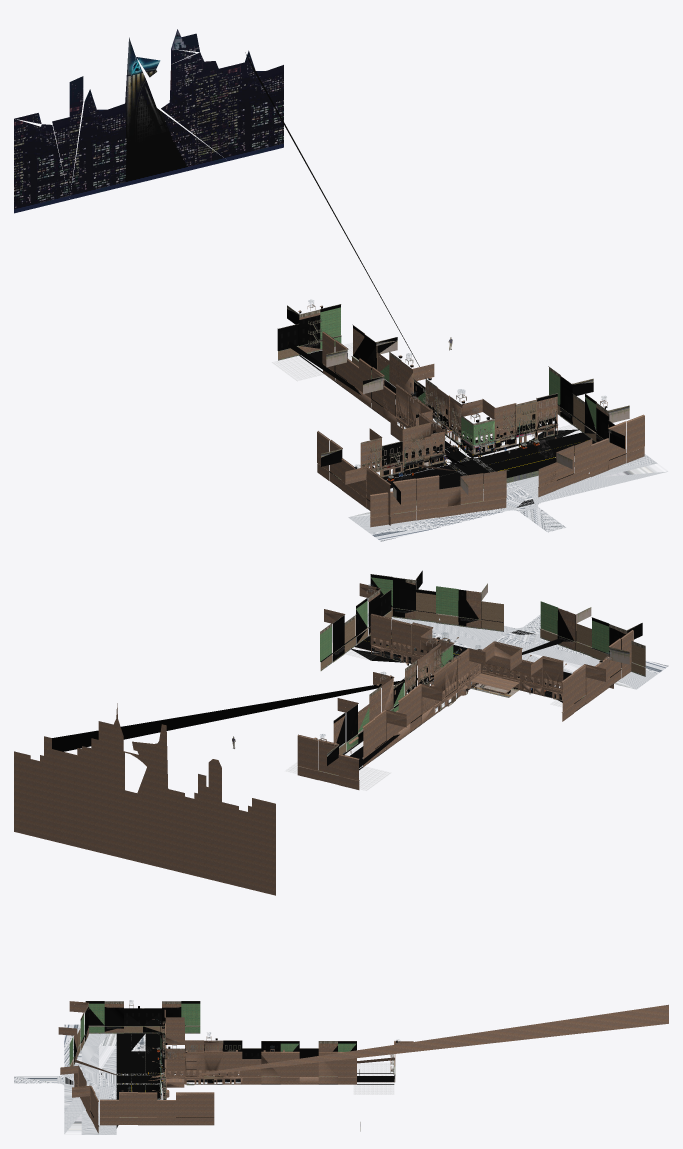
File: oldstreet.glb
3 renders of one model, top to bottom at view 1: azimuth 30°, elevation 25°; view 2: azimuth 150°, elevation 25°; view 3: azimuth 270°, elevation 25°, orthographic. The views are drawn at different scales.
Parts seen in each view (by area): view 1: tile_-1_-1, tile_0_1, tile_0_-1, tile_flat_0_-1; view 2: tile_-1_-1, tile_0_-1, tile_flat_0_-1; view 3: tile_-1_-1, tile_0_-1, tile_flat_0_-1.
Boxes of the visible parts, left/top/right/bottom form: tile_-1_-1: left=245, top=52, right=644, bottom=527; tile_0_1: left=14, top=29, right=283, bottom=213; tile_0_-1: left=277, top=300, right=629, bottom=517; tile_flat_0_-1: left=307, top=352, right=664, bottom=541; tile_-1_-1: left=14, top=570, right=645, bottom=895; tile_0_-1: left=299, top=573, right=645, bottom=783; tile_flat_0_-1: left=368, top=611, right=668, bottom=689; tile_-1_-1: left=58, top=1001, right=668, bottom=1133; tile_0_-1: left=69, top=1000, right=400, bottom=1124; tile_flat_0_-1: left=14, top=1024, right=145, bottom=1134.
Bounding box in the file's own units: 32.78 × 22.87 × 82.24.
Materials: 26 (19 with a texture image).
